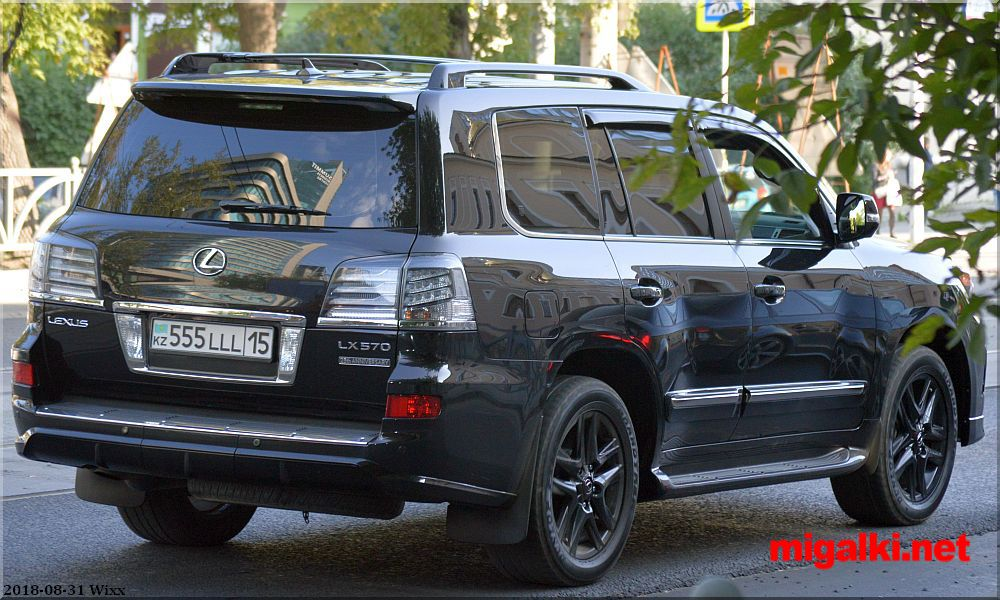license_plate: (152, 318, 273, 362)
